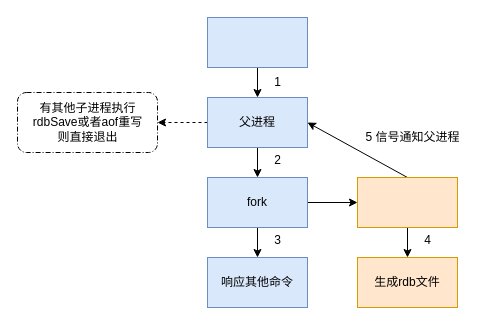
This 485x325 diagram has some shape labels left out. The shapes that lost their labels are listed below. From the top down, each one's centre as x and y in pixels, then its label:
At point 257,42: "bgsave".
At point 407,202: "子进程".
